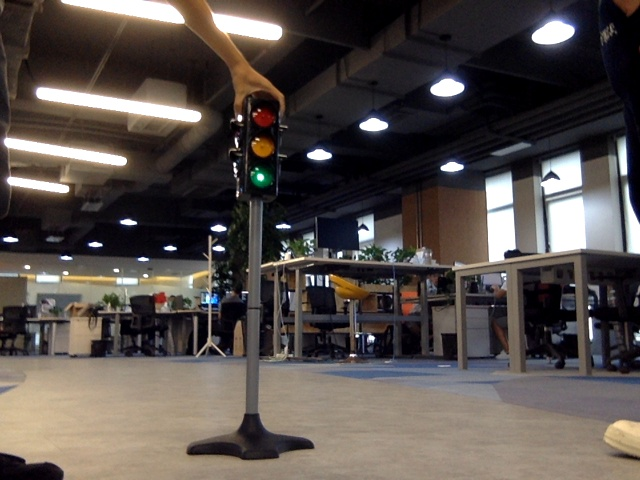green: (246, 104, 276, 194)
